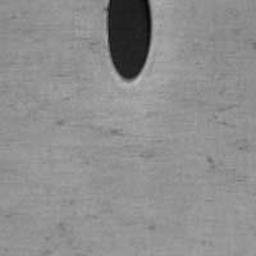Punching: (105, 0, 154, 79)
